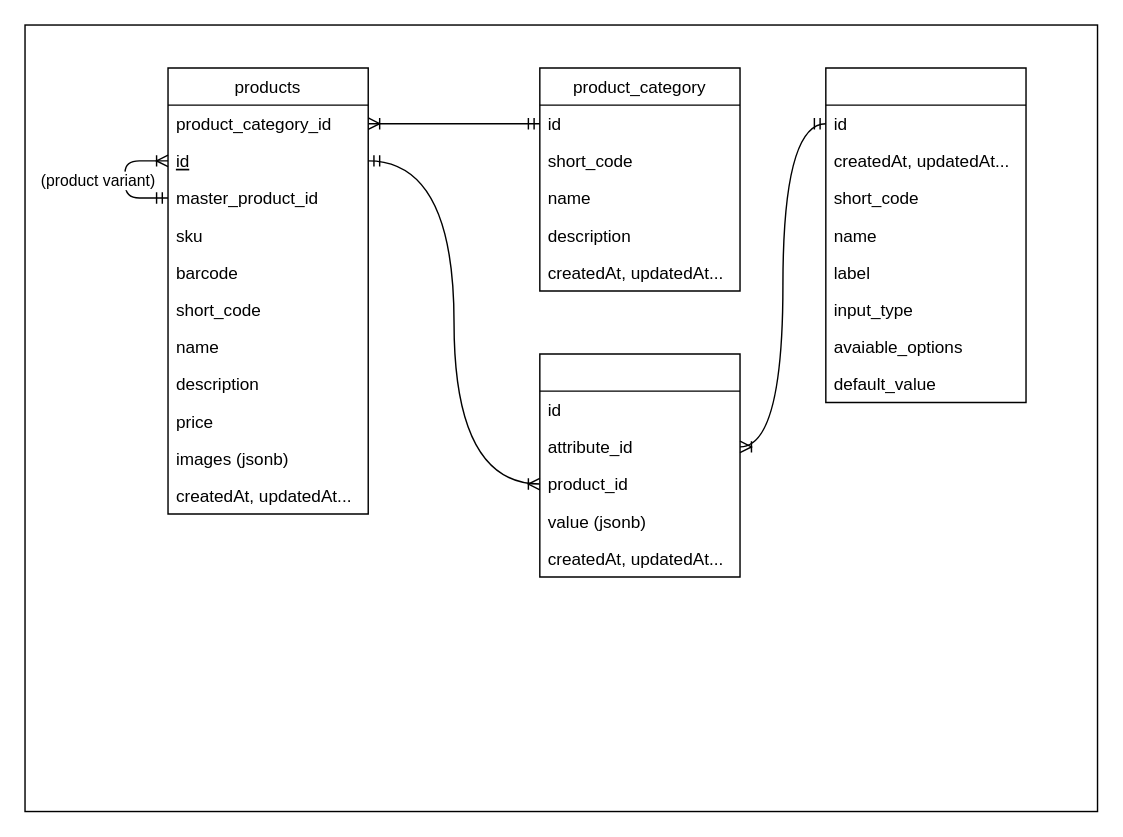
Image size: 1123x837. Some labels were removed from this diagram. The box of each missing label's shape, as (x1, y1, x2, y2) in pixels:
product_attributes: (824, 66, 1026, 403)
product_extra_fields: (538, 352, 740, 577)
